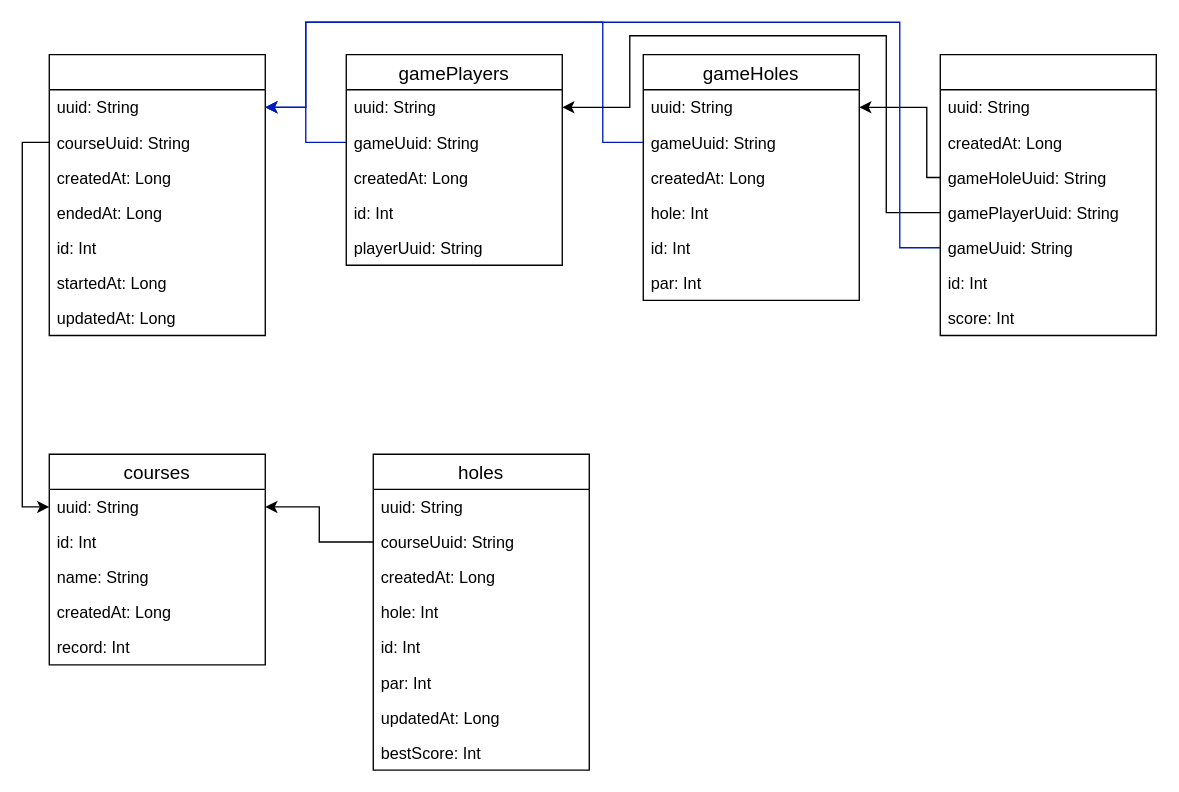
Image size: 1179x792. Some labels were removed from this diagram. The box of each missing label's shape, as (x1, y1, x2, y2) in pixels:
games: (48, 53, 265, 335)
scores: (939, 53, 1156, 335)
